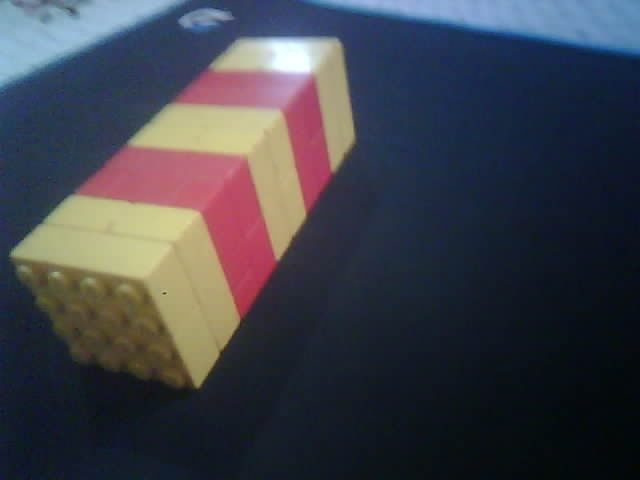lego: (8, 36, 358, 391)
